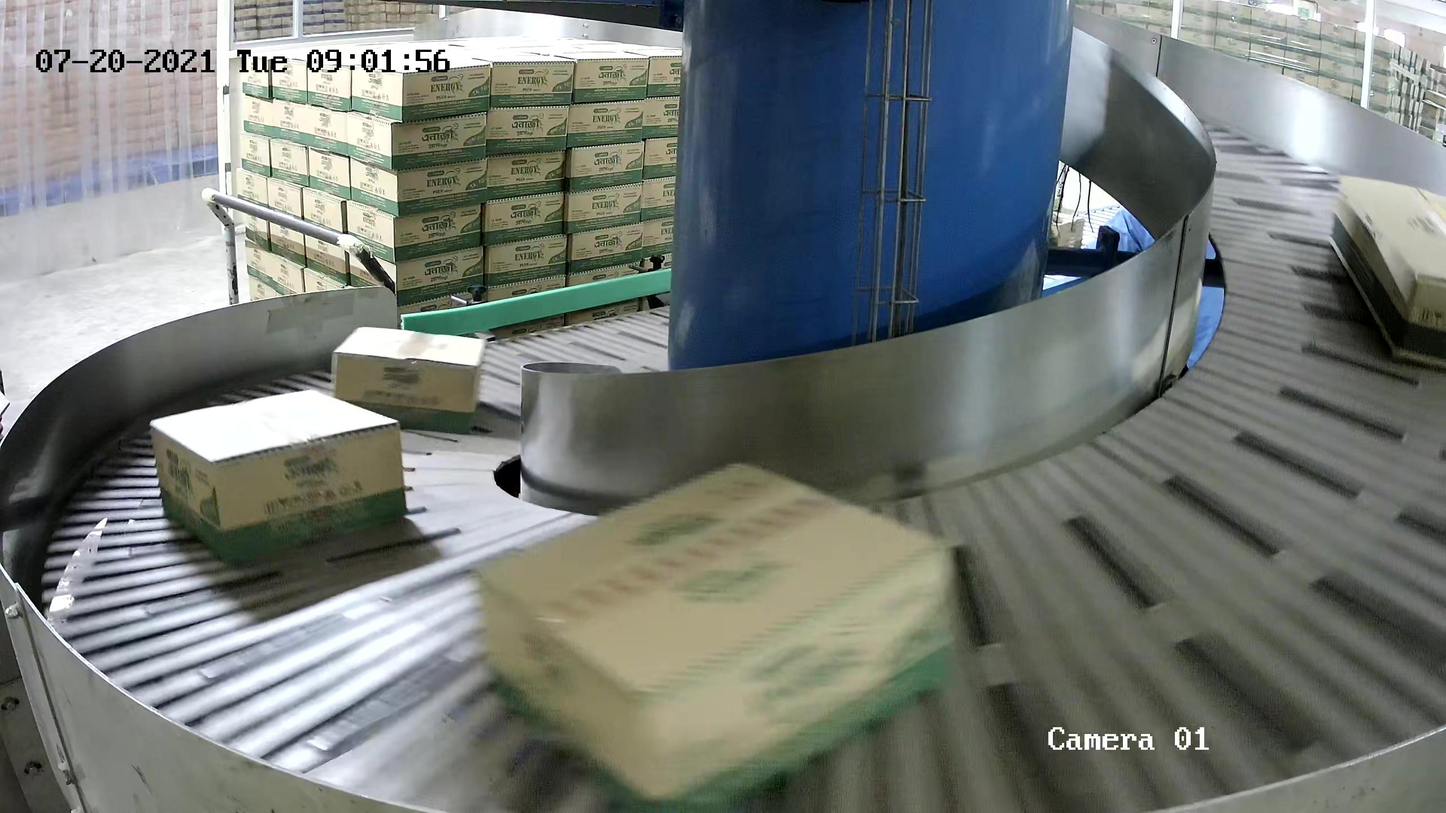Box: (472, 461, 963, 813), (150, 387, 410, 565), (1326, 175, 1446, 370), (332, 325, 486, 437)
